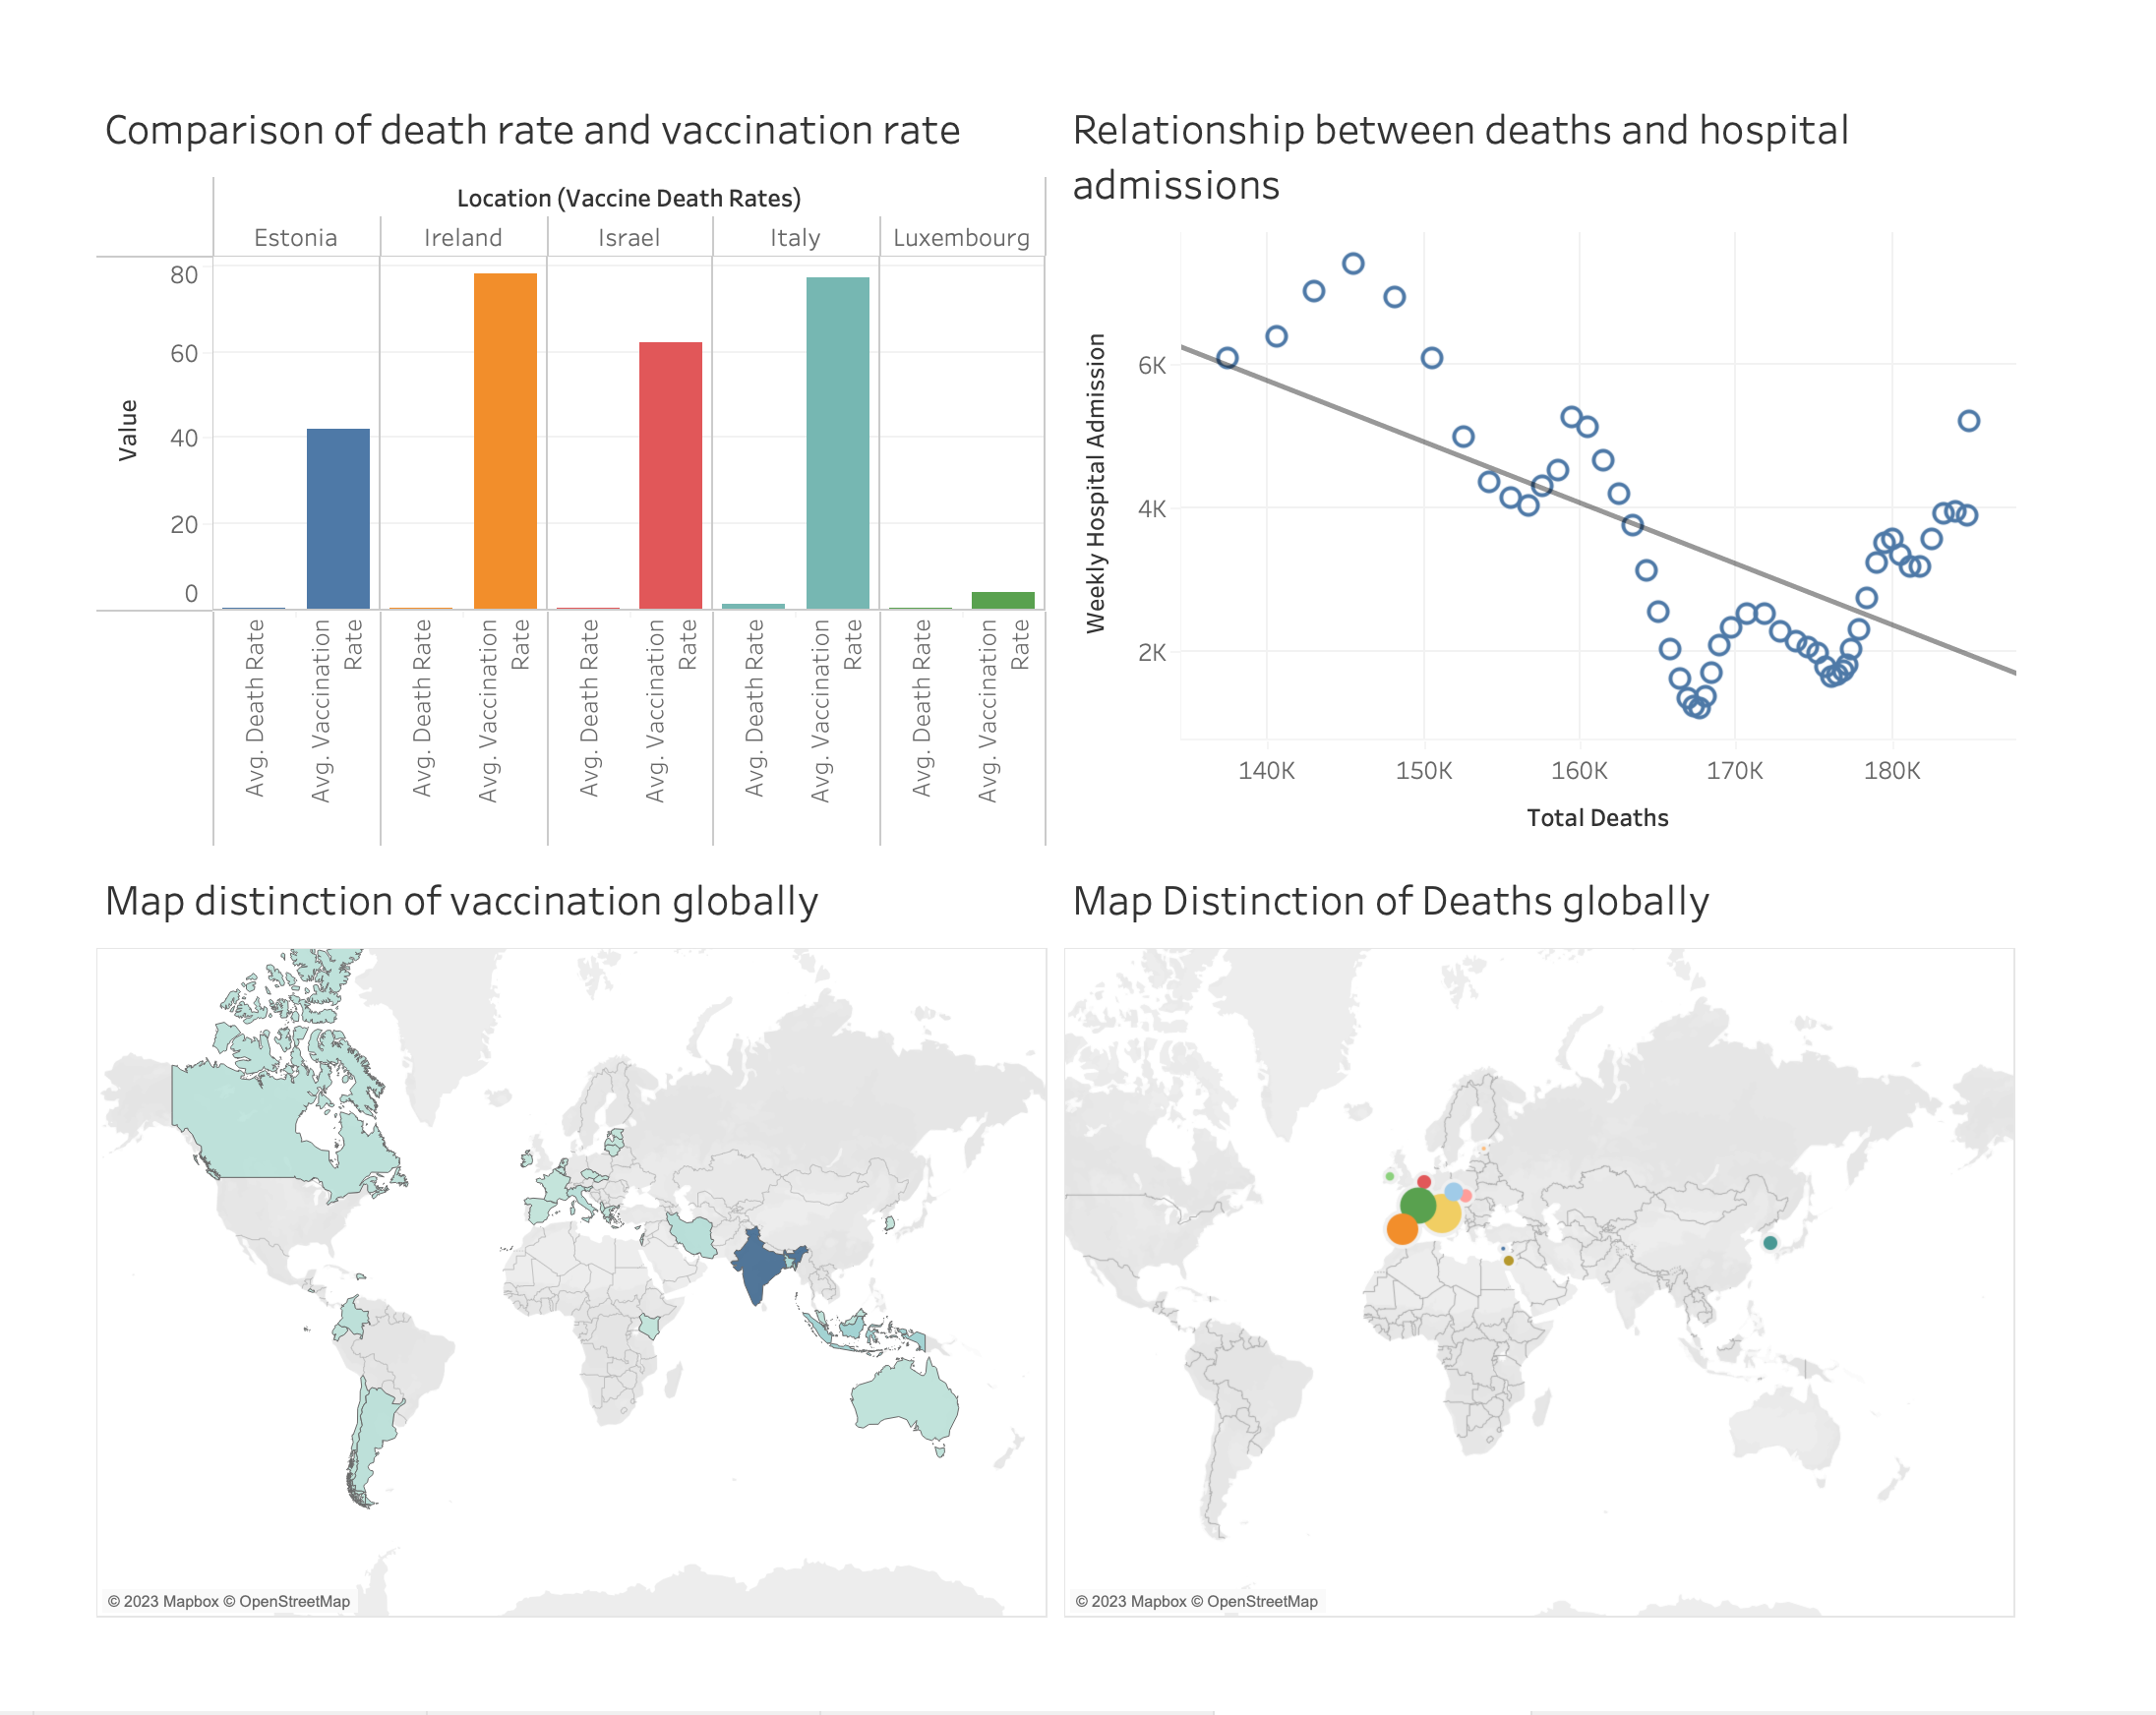

What the dashboard file says about the page in this screenshot:
{"tool":"tableau","page":{"name":"Covid Dataset Analysis","canvas":[1000,800],"ordinal":0},"visuals":[{"type":"worksheet","title":"Comparison of death rate and vaccination rate","mark":"Automatic","cols":["location (vaccine_death_rates)"],"box":[8,8,492,392]},{"type":"worksheet","title":"Relationship between deaths and hospital admissions","mark":"Automatic","rows":["weekly_hospital_admission"],"cols":["total_deaths"],"box":[500,8,492,392]},{"type":"worksheet","title":"Map distinction of vaccination globally","mark":"Automatic","box":[8,400,492,392]},{"type":"worksheet","title":"Map Distinction of Deaths globally","mark":"Circle","box":[500,400,492,392]}]}

Visuals, with their boxes in screenshot pixels (x1, y1, x2, y2), scaled from the page's 1000x800 canvas onto the 2156x1715 screenshot:
"Comparison of death rate and vaccination rate" worksheet: x1=18, y1=17, x2=1078, y2=857
"Relationship between deaths and hospital admissions" worksheet: x1=1078, y1=17, x2=2138, y2=857
"Map distinction of vaccination globally" worksheet: x1=18, y1=857, x2=1078, y2=1698
"Map Distinction of Deaths globally" worksheet (Circle marks): x1=1078, y1=857, x2=2138, y2=1698
